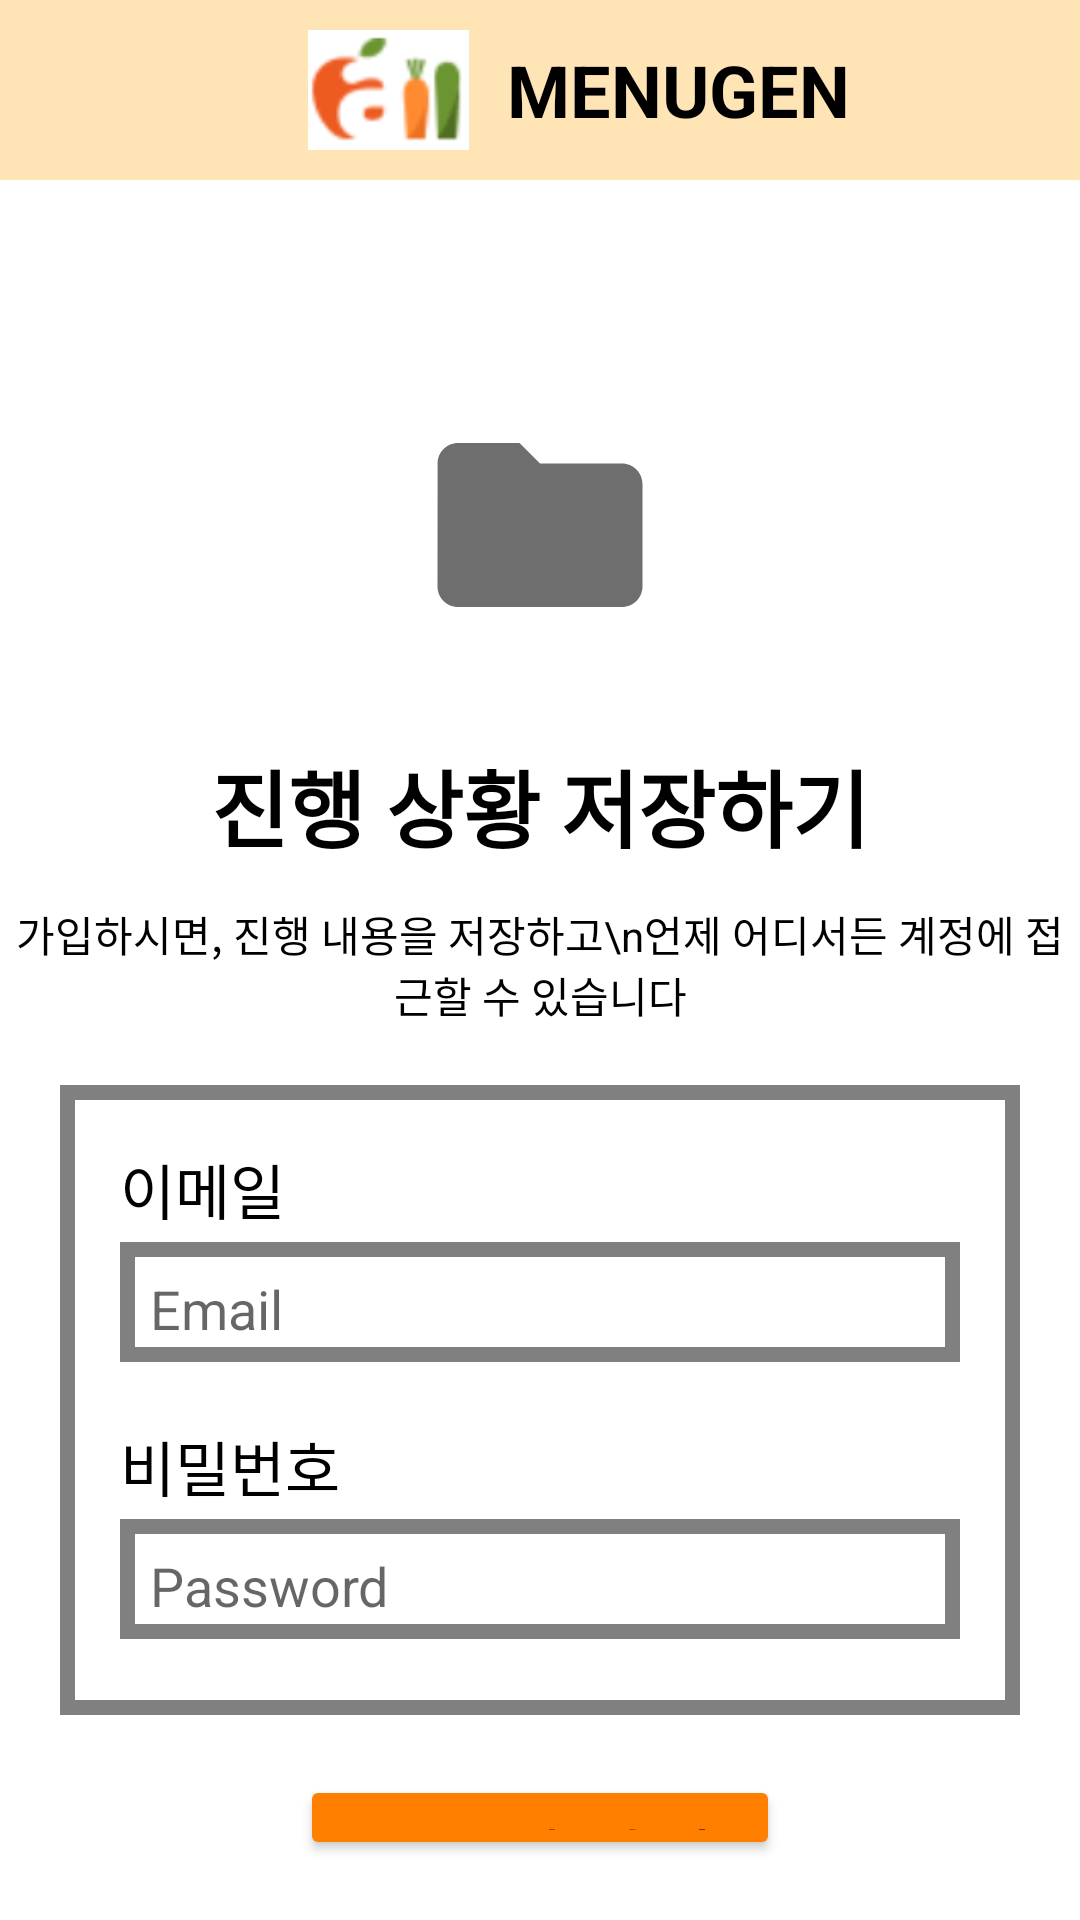

Screen size 1080 × 1920. Icon name, then its box in pixels as Rect(x1, y1, x2, y2):
folder: Rect(437, 443, 643, 607)
